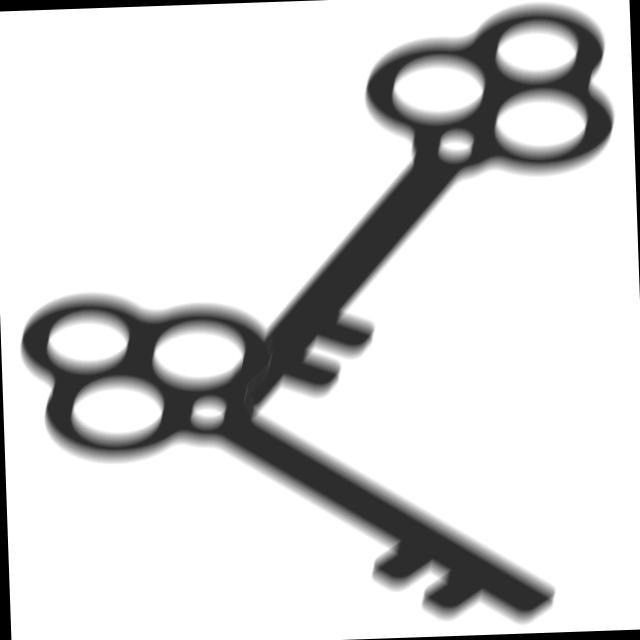key: (9, 286, 640, 628), (195, 1, 630, 438)
